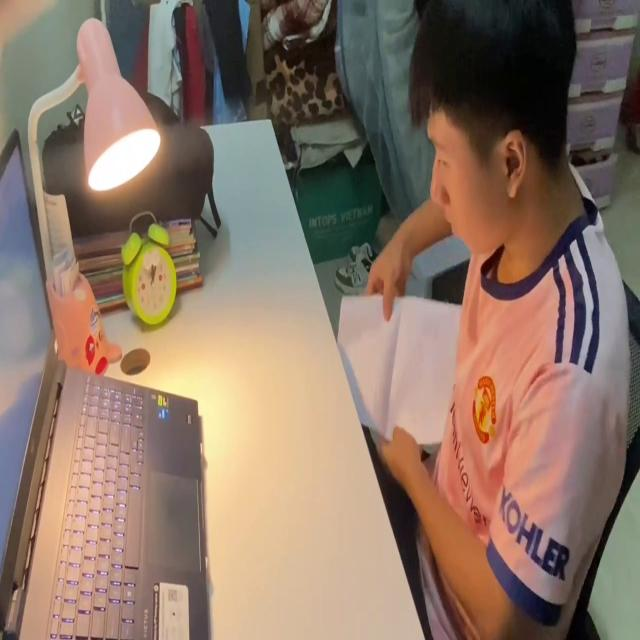book: (336, 287, 468, 453)
laptop: (0, 126, 210, 640)
student: (363, 0, 635, 640)
